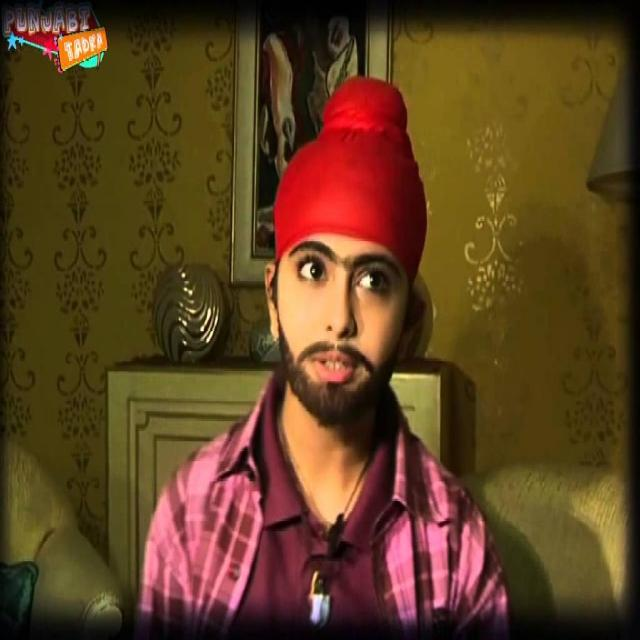nomask: (282, 196, 402, 416)
